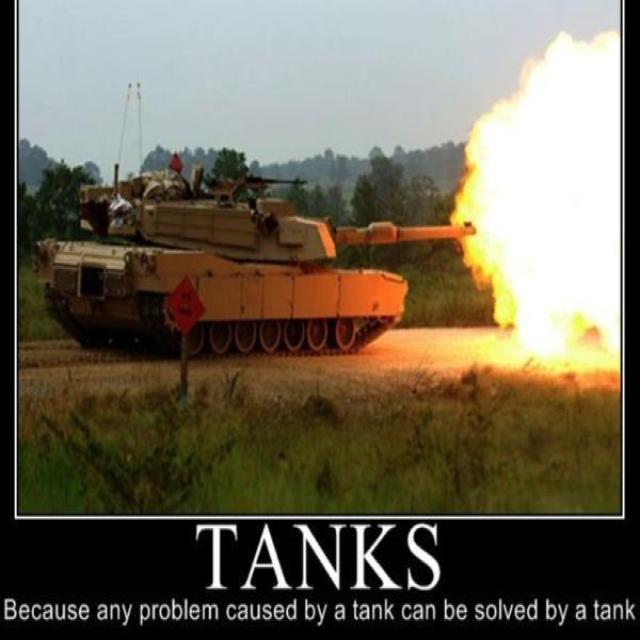Tanks: (46, 164, 416, 371)
